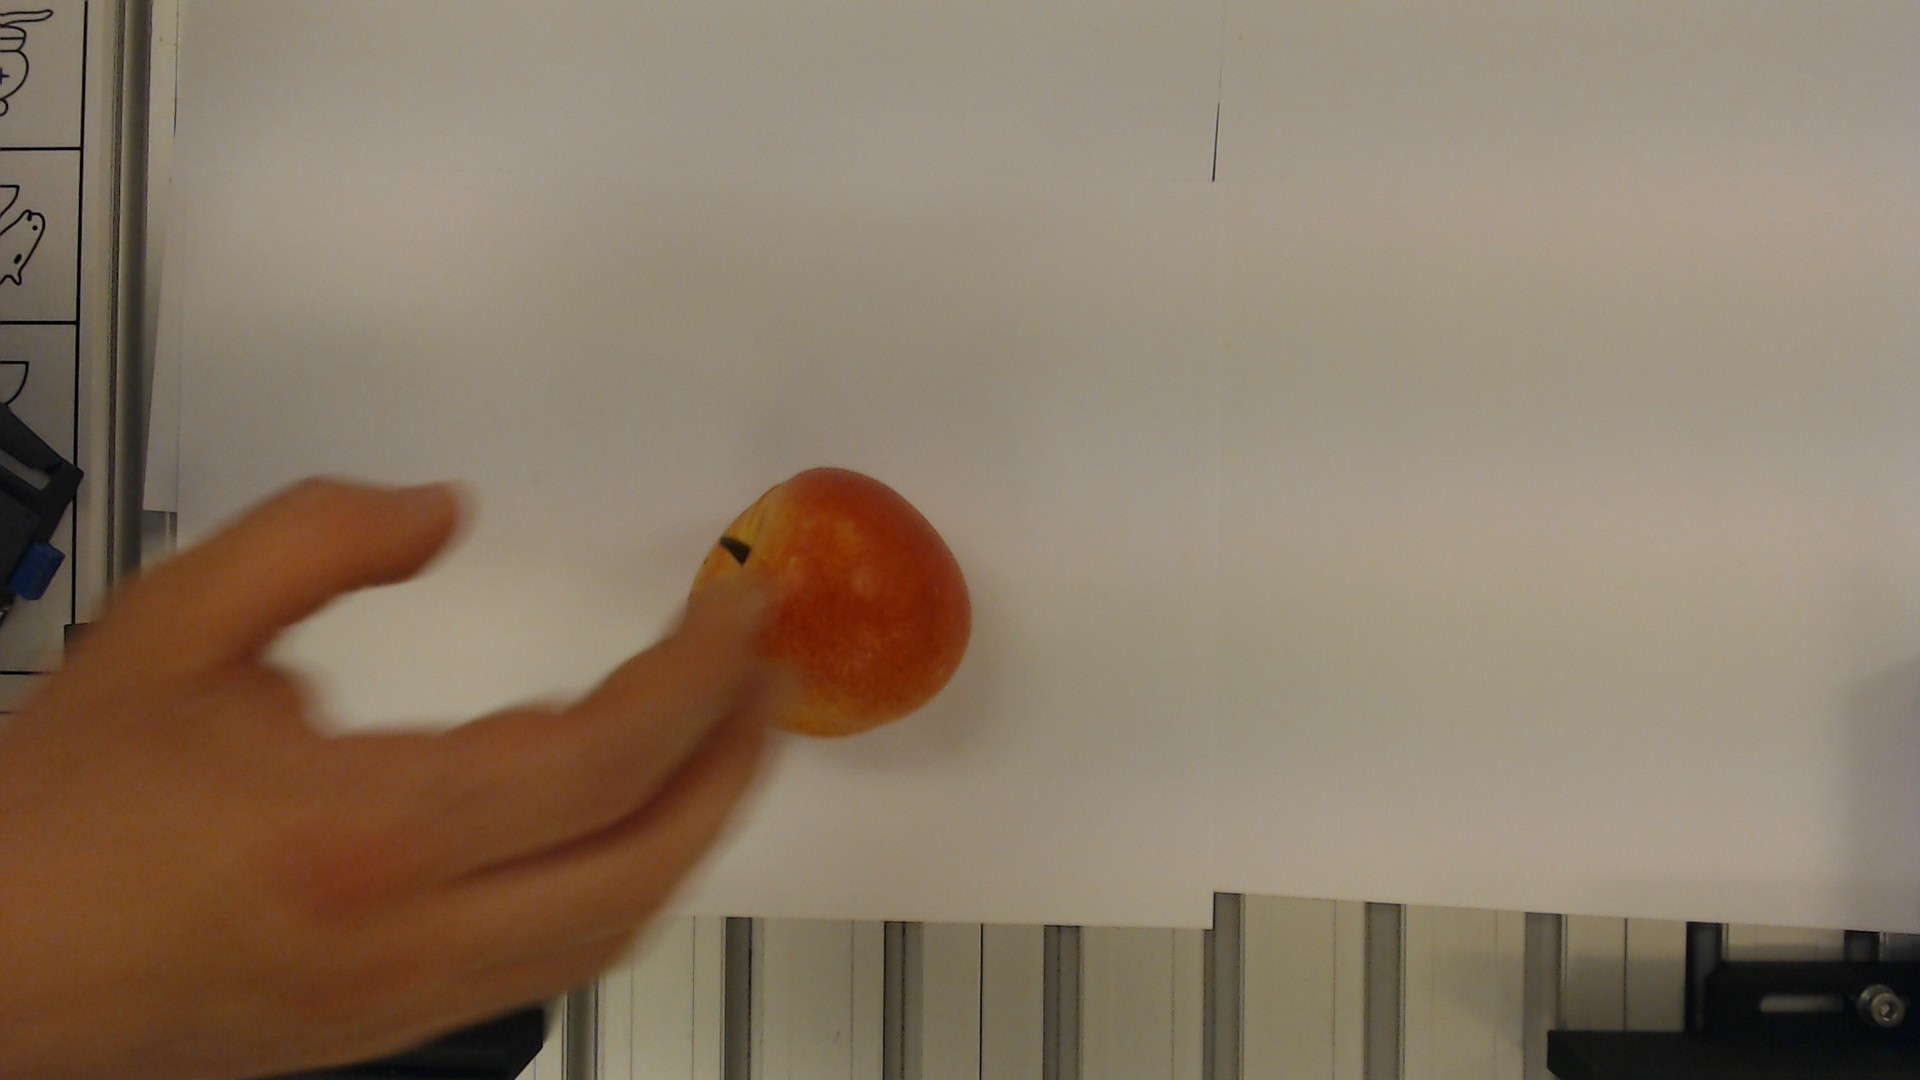Peach: (695, 473, 977, 738)
